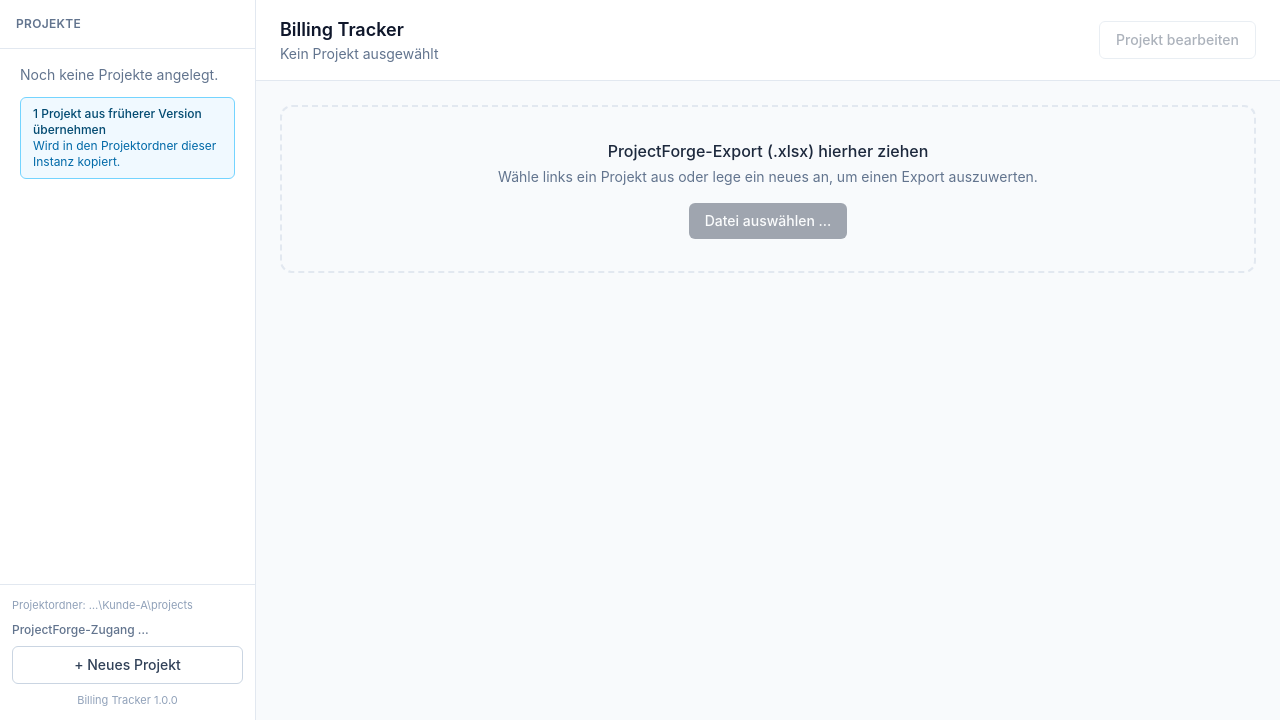
Scenario: App (Integration mit nachgebildetem Backend) › meldet Fehler beim Übernehmen früherer Projekte
The image size is (1280, 720).
Click the button "aus früherer Version übernehmen" at (128, 138), box [20,97,235,179]
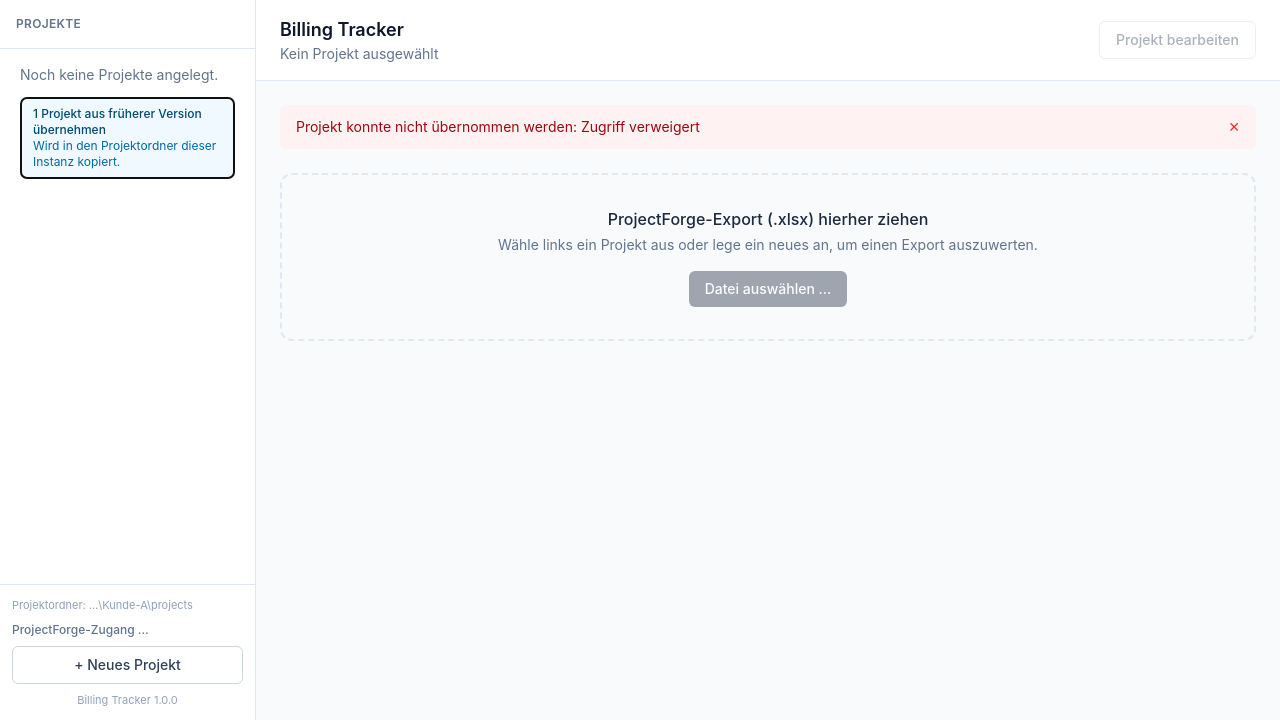
Now the text "Projekt konnte nicht übernommen werden: Zugriff verweigert" is shown, box [296,117,700,137]
